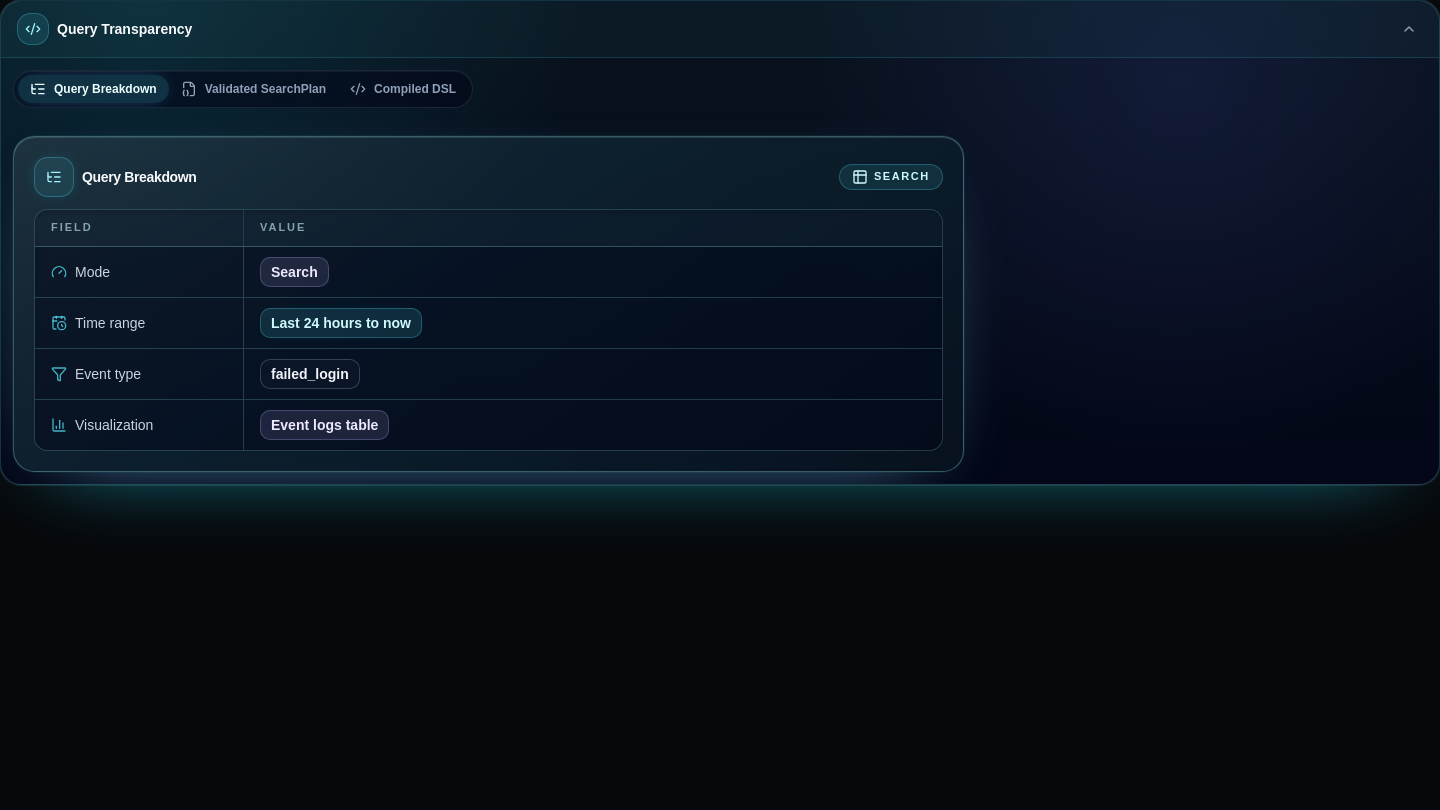
it: QueryTransparency › shows the Compiled DSL read-only badge only once
Click the tab "Compiled DSL". click: point(403, 89)
box: 338,75 -> 468,103
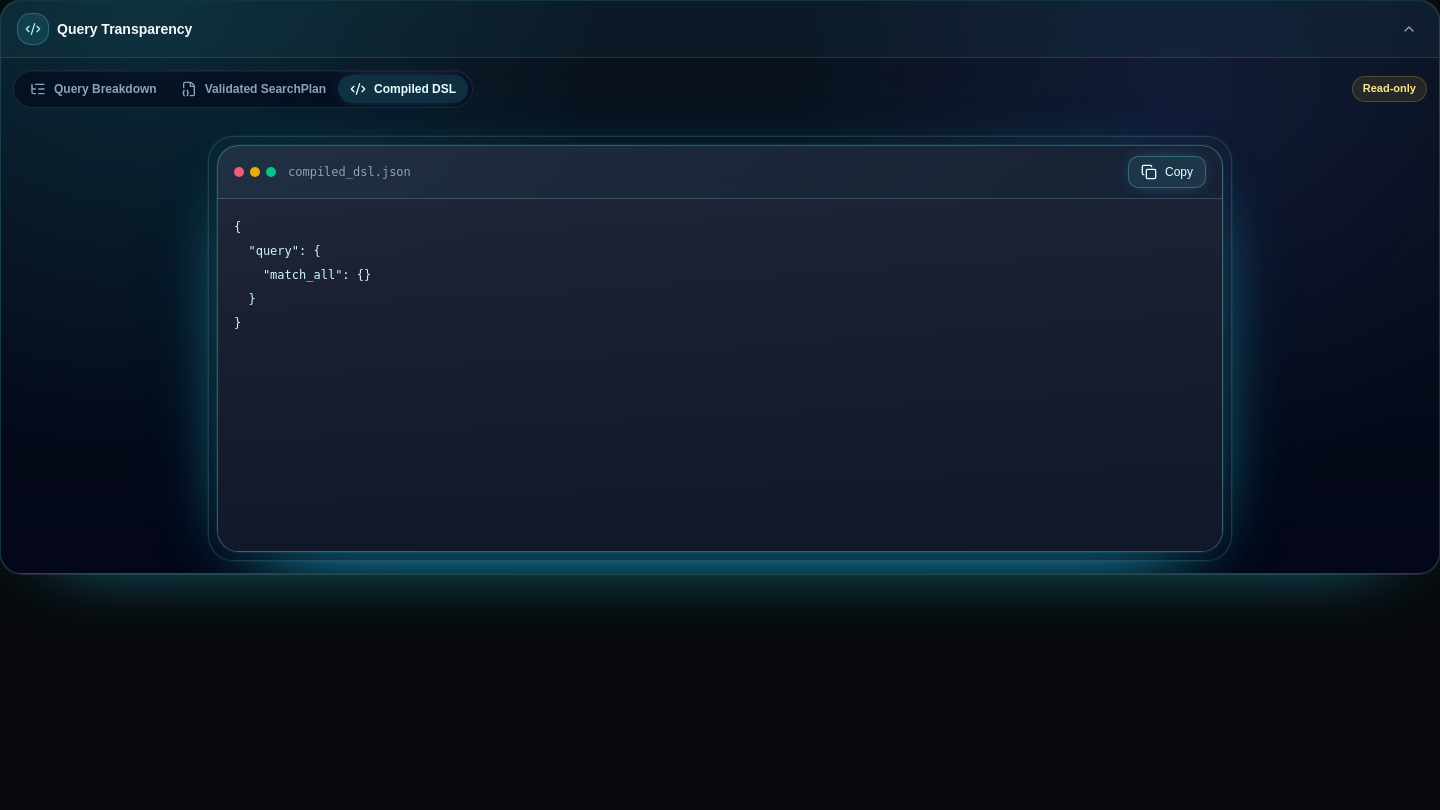
Check: the text "compiled_dsl.json" is shown, box 288,164 -> 411,180
Check: the text "Read-only" is shown once, box 1352,76 -> 1427,102
